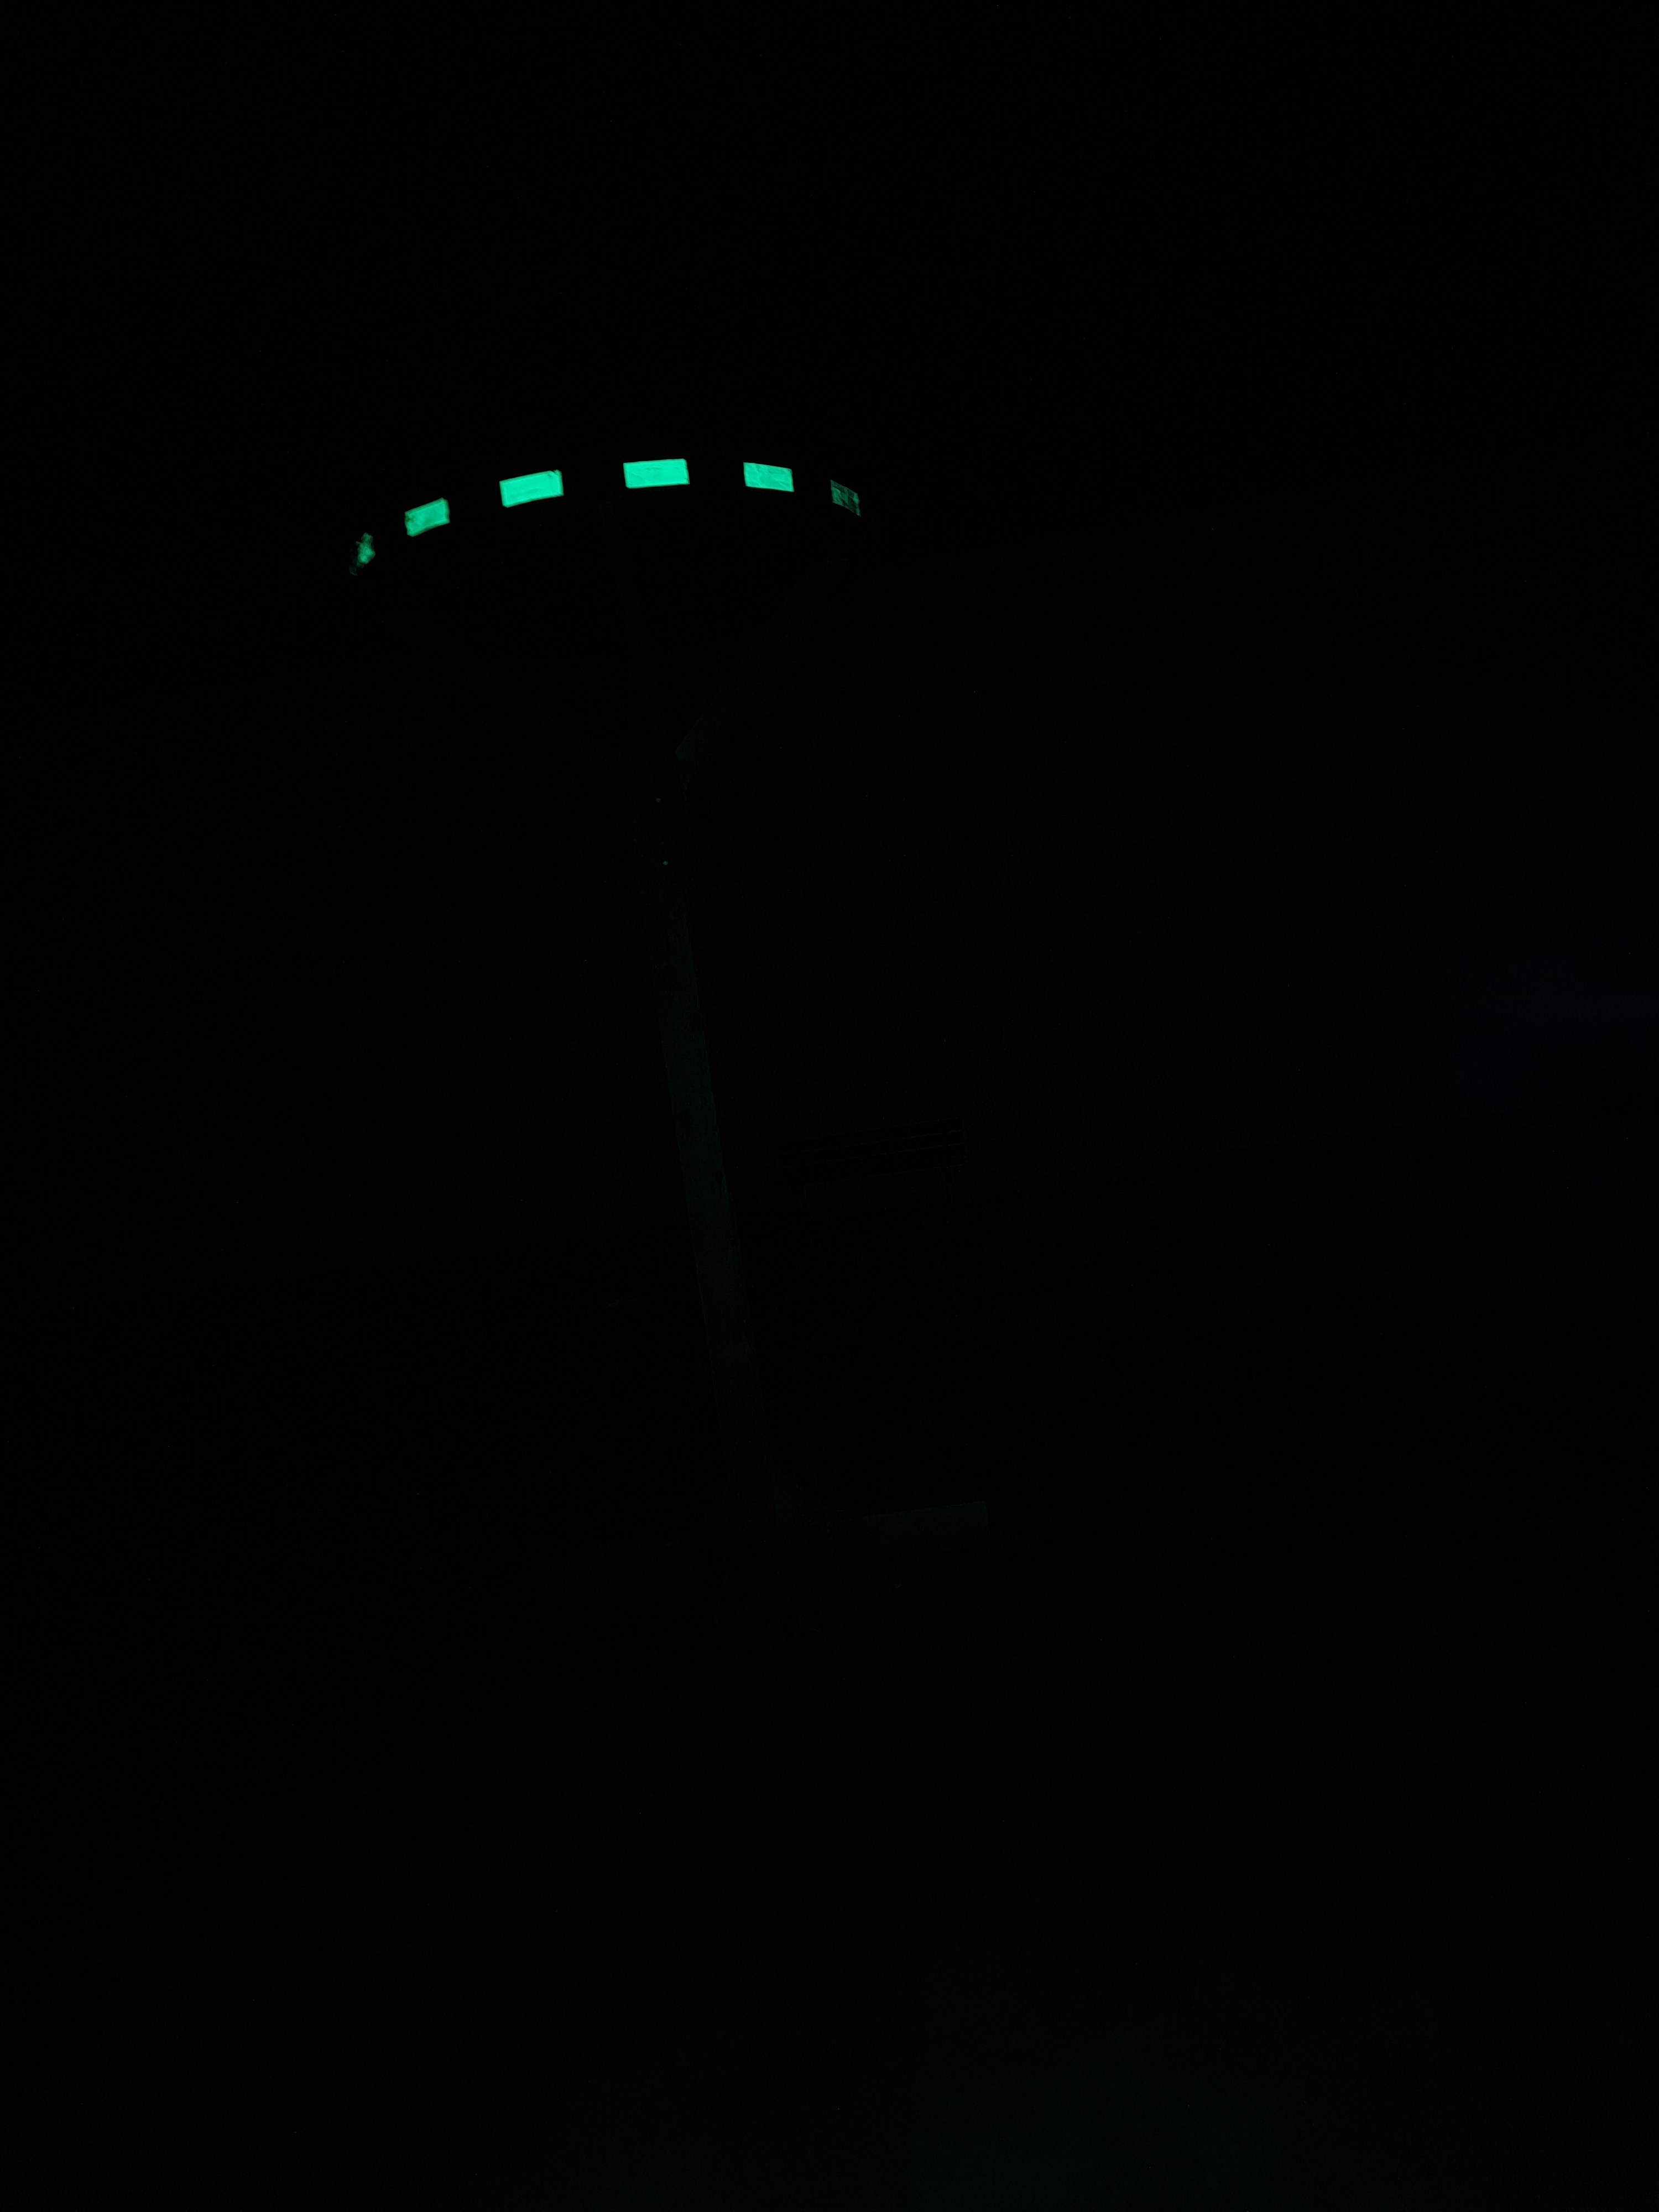hoop: (340, 435, 868, 577)
